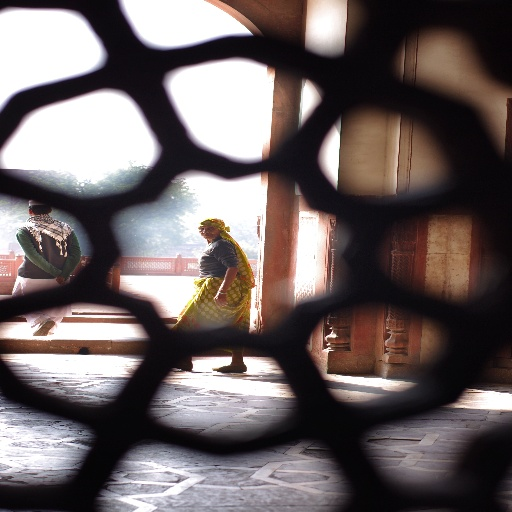hand: (209, 289, 225, 302)
